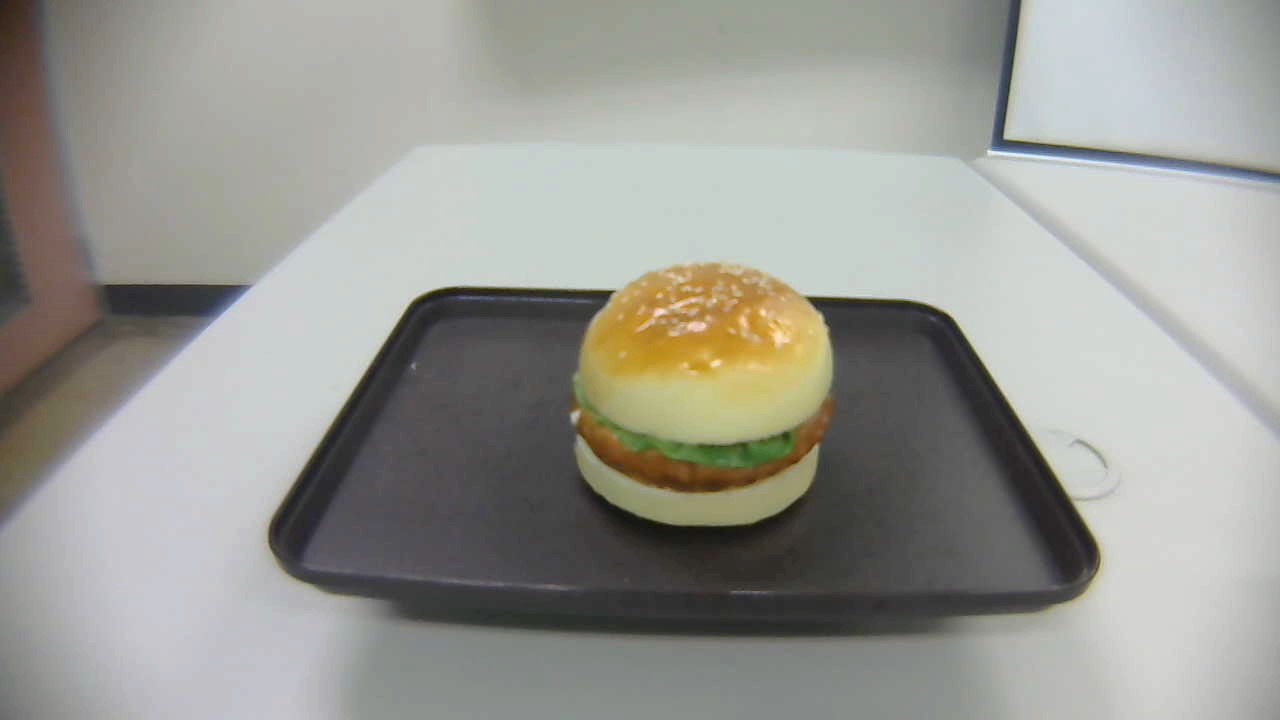hamburger: (570, 262, 837, 527)
